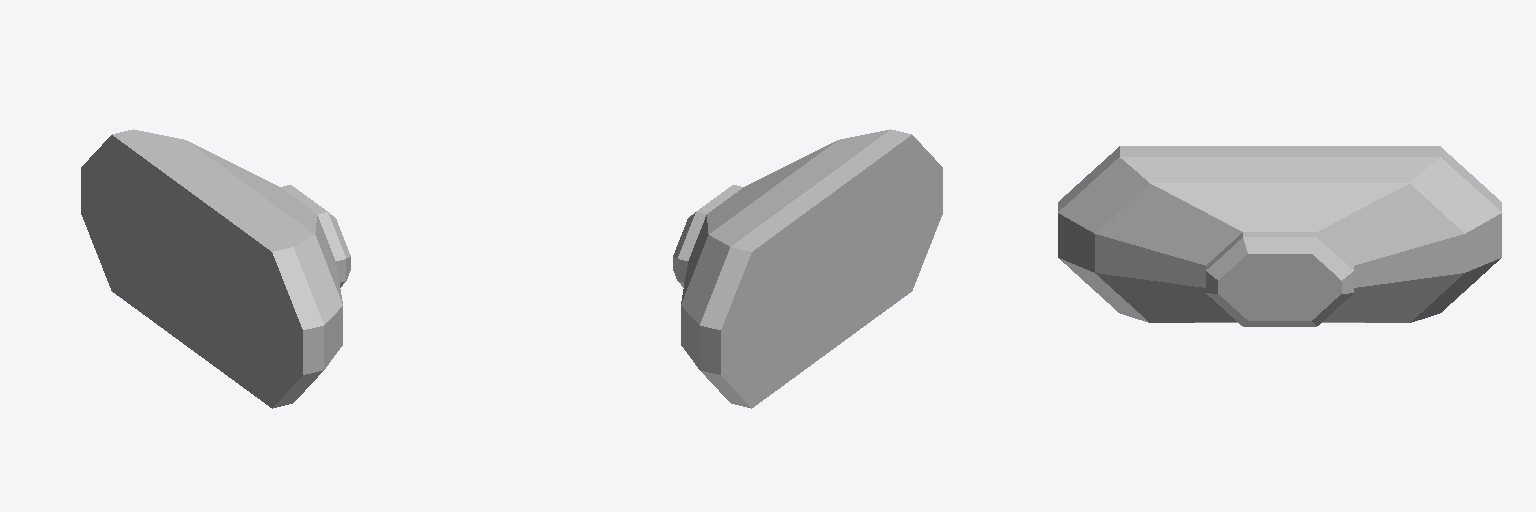
Rendered from Spacestation_Structure_Rod_Housing_Long_Centered.obj.
3 renders of one model, left to right at view 1: azimuth 30°, elevation 25°; view 2: azimuth 150°, elevation 25°; view 3: azimuth 270°, elevation 25°, orthographic.
Parts seen in each view (by area): view 1: object2, object1; view 2: object2, object1; view 3: object2, object1.
Boxes of the visible parts, x1=… form: object2: x1=81, y1=129, x2=342, y2=408; object1: x1=281, y1=185, x2=350, y2=287; object2: x1=681, y1=129, x2=942, y2=408; object1: x1=673, y1=185, x2=742, y2=287; object2: x1=1058, y1=146, x2=1501, y2=322; object1: x1=1206, y1=232, x2=1353, y2=326.
Size of the model in its own units: 0.6 by 0.7 by 1.8.